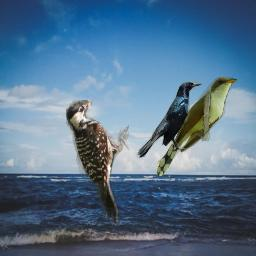Crow: (136, 81, 202, 158)
Cuckoo: (157, 77, 237, 176)
Woodpecker: (66, 100, 129, 225)
